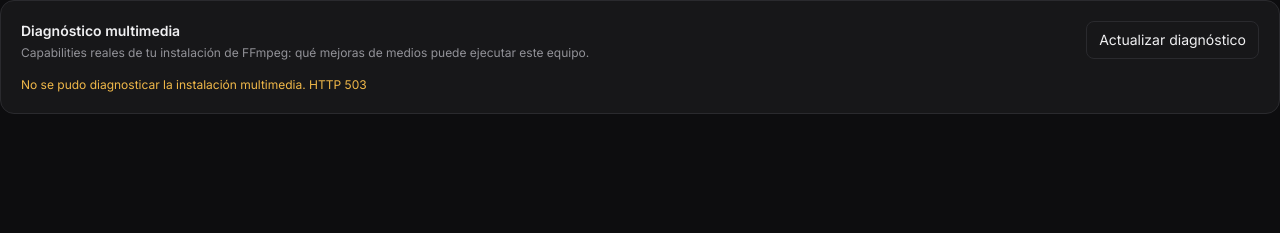
Test case: Diagnóstico multimedia › tolera error del endpoint y permite recuperar con refresh
This screenshot has width=1280, height=233.
Expected: the text "No se pudo diagnosticar la instalación multimedia. HTTP 503" is shown, 21,77 -> 367,92
Click the button "Actualizar diagnóstico": (1173, 40) 1086,21 -> 1259,59
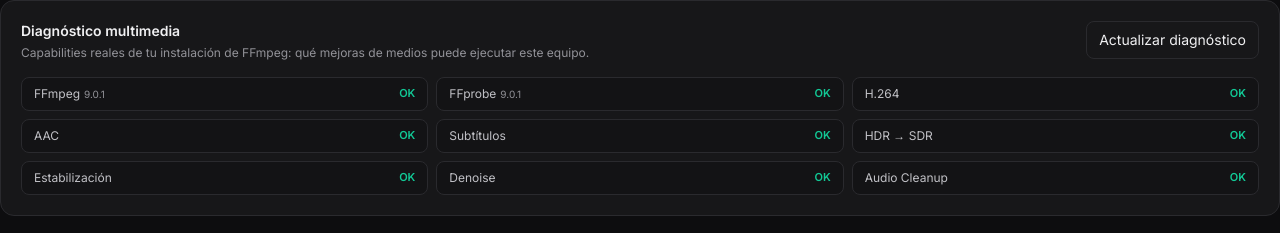
Expected: the text "HDR → SDR" is shown, 865,128 -> 933,144
Expected: the text "No se pudo diagnosticar" is gone
